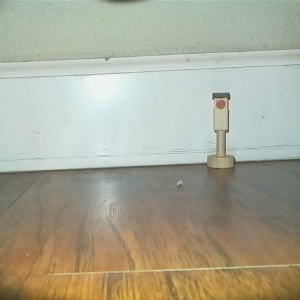traffic light red: (205, 91, 236, 169)
